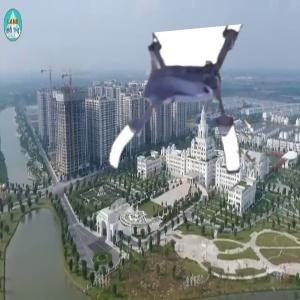drone: (97, 32, 253, 188)
